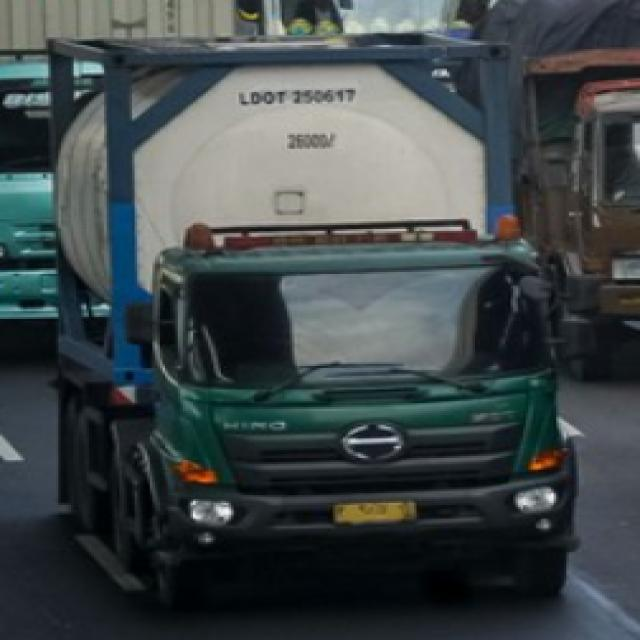truck: (1, 26, 622, 616)
